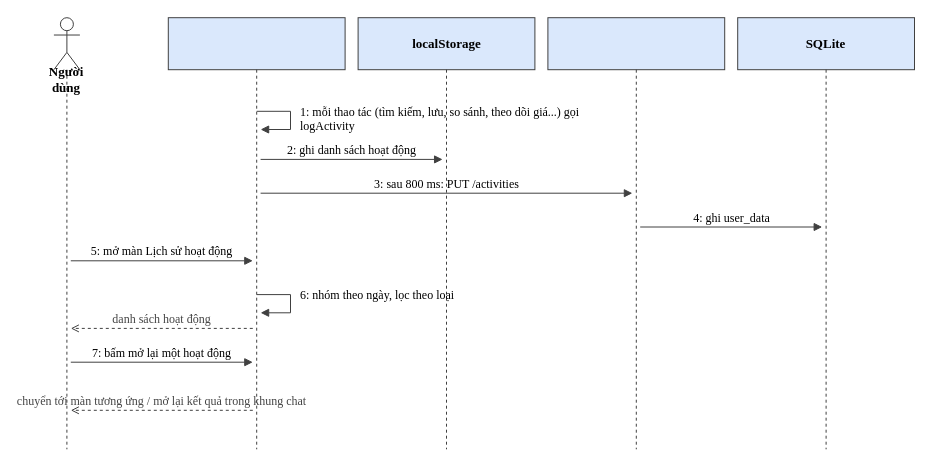
Some shapes in this 932 by 467 pixel diagram are drawn without their labels. Each missing label, with the box of its shape:
API /api/auth/me/data: (547, 17, 725, 449)
Giao diện (React): (167, 17, 345, 449)
